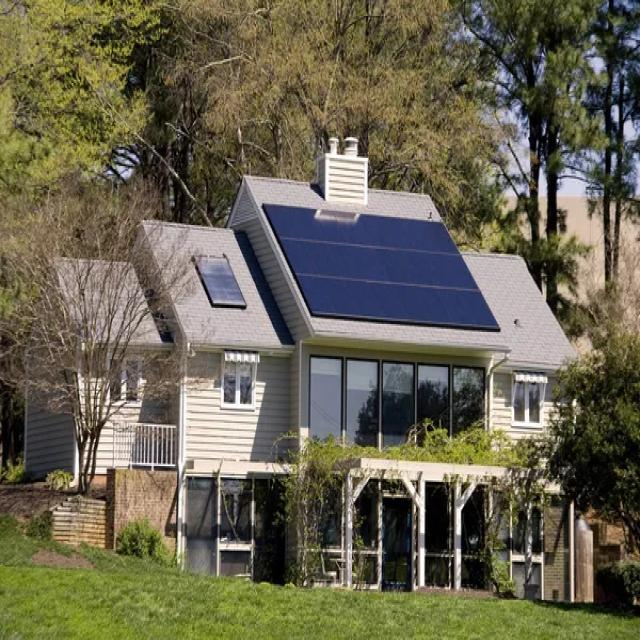clean-solar-panel: (265, 202, 502, 329)
